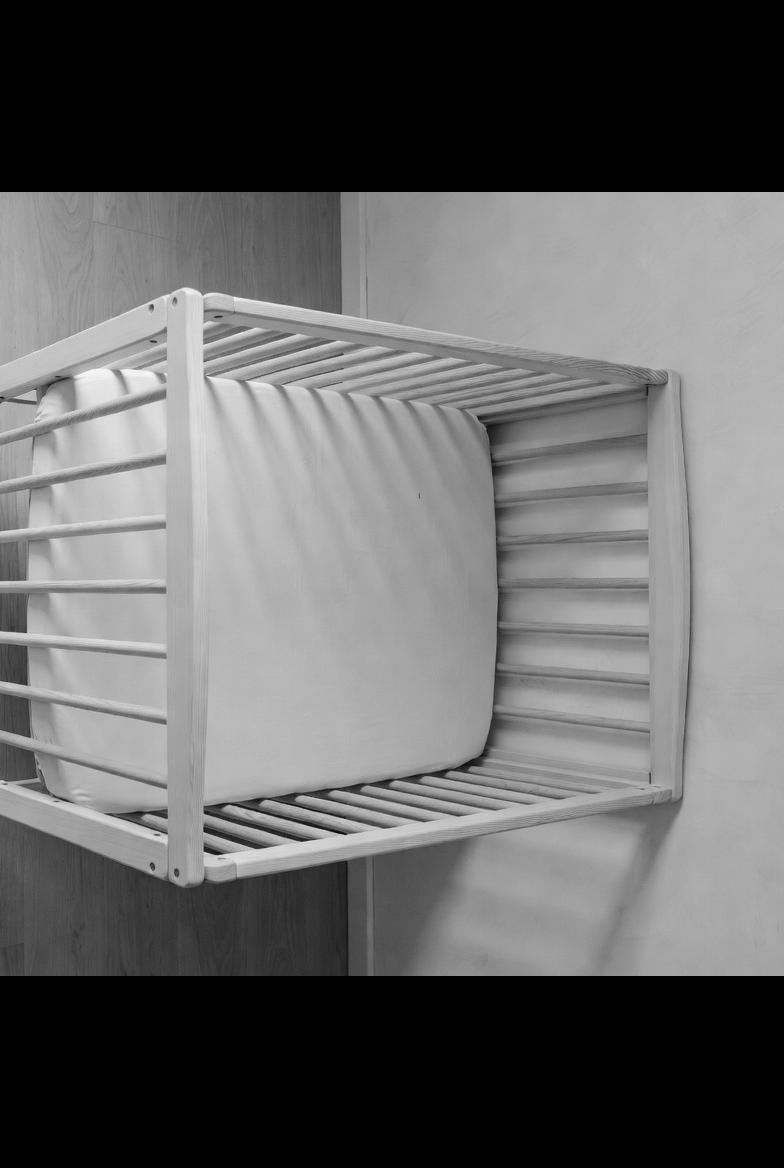crib: (0, 289, 689, 886)
